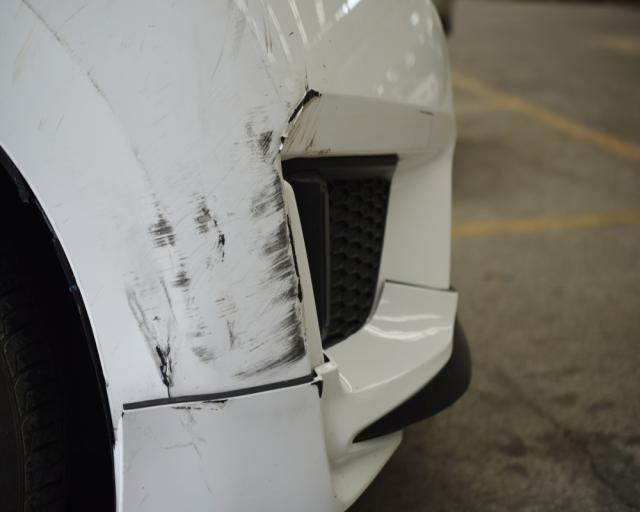scratch: (110, 83, 339, 389)
